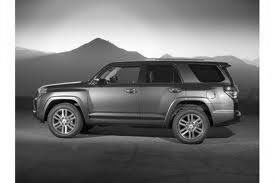car: (33, 58, 242, 148)
